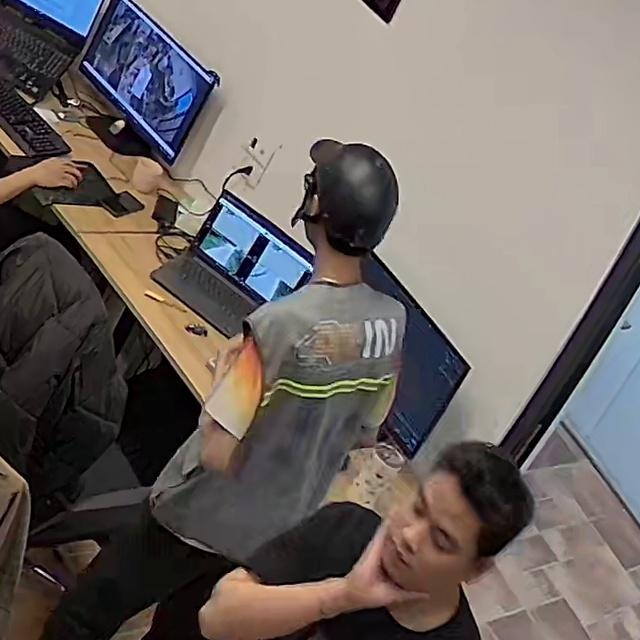helmet: (303, 133, 403, 256)
no_helmet: (398, 440, 538, 585)
none: (151, 497, 485, 640)
vest: (146, 282, 408, 560)
